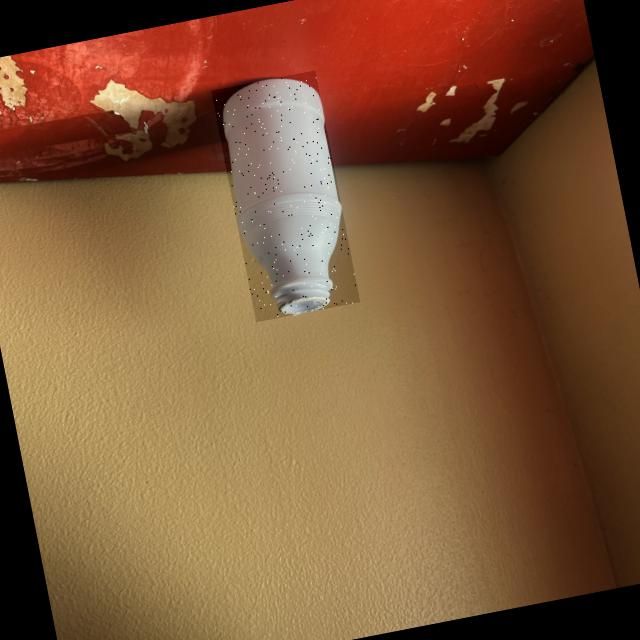HDPE_Bottle: (223, 78, 341, 313)
